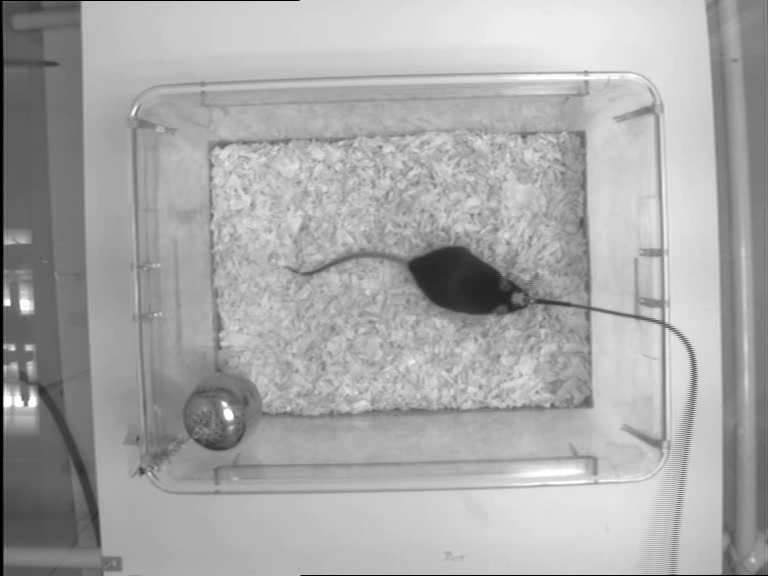mice: (279, 244, 535, 318)
